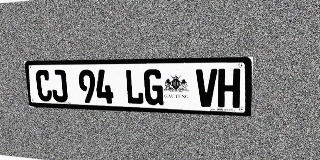4: (95, 69, 114, 104)
9: (78, 69, 96, 103)
C: (35, 70, 53, 102)
G: (144, 69, 163, 105)
H: (218, 69, 241, 108)
J: (50, 70, 68, 102)
L: (125, 69, 144, 105)
V: (196, 69, 217, 107)
